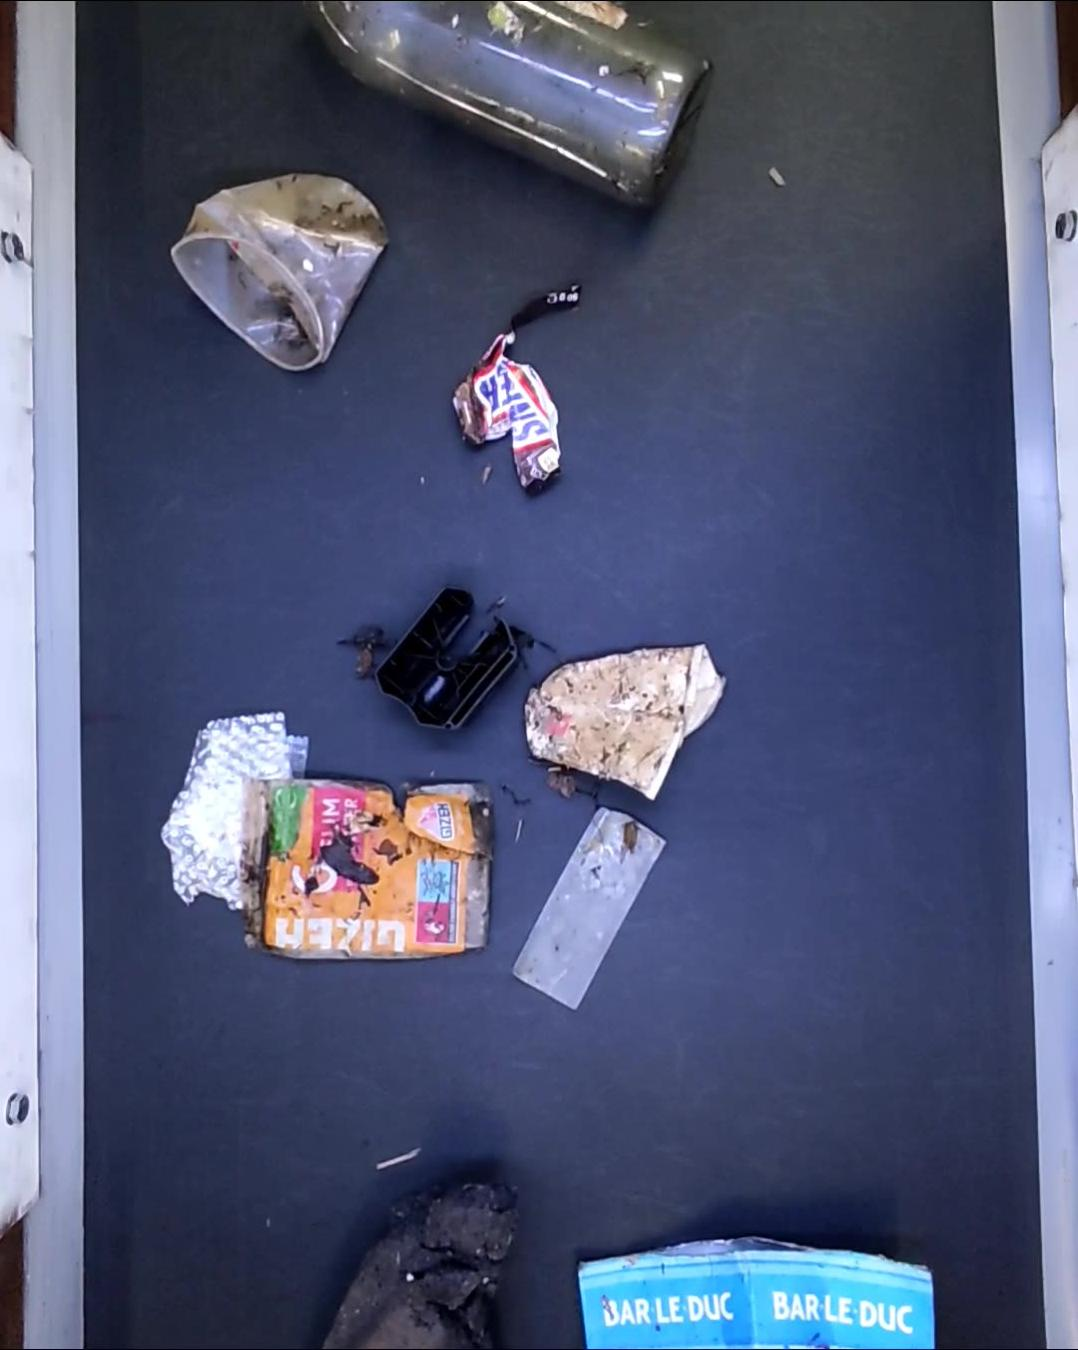Plastic folies of stukken daarvan 2.5- 50 cm: (513, 809, 664, 1010)
Snoep snack en chips verpakkingen: (239, 779, 490, 959), (160, 706, 307, 908), (453, 279, 579, 487)
